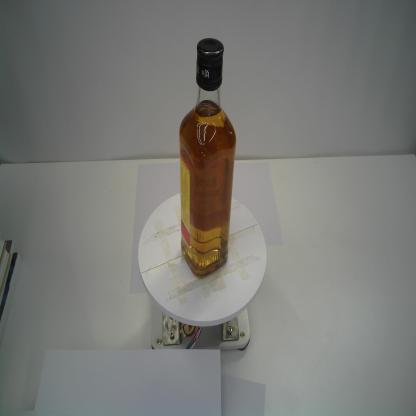Seasoner: (178, 36, 236, 277)
